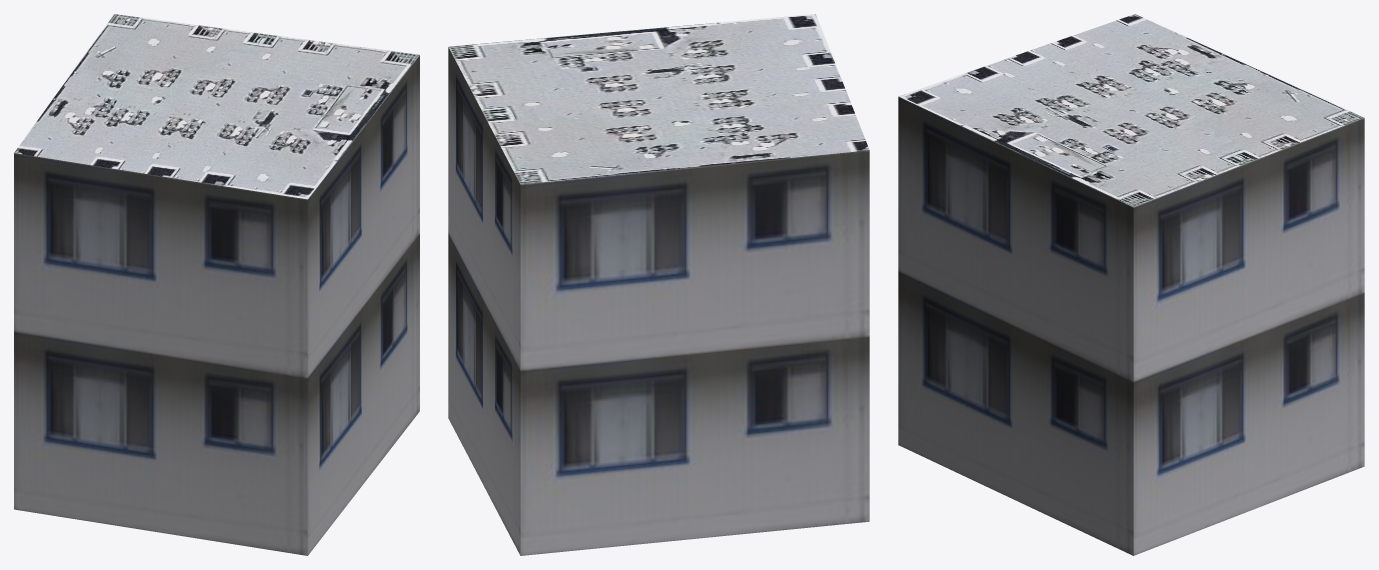
The model's file is ResTex__5156.fbx.
3 renders of one model, left to right at view 1: azimuth 30°, elevation 25°; view 2: azimuth 150°, elevation 25°; view 3: azimuth 270°, elevation 25°, orthographic. The views are drawn at different scales.
Parts seen in each view (by area): view 1: CityEngineMaterial_9_m, CityEngineMaterial_8_m; view 2: CityEngineMaterial_9_m, CityEngineMaterial_8_m; view 3: CityEngineMaterial_9_m, CityEngineMaterial_8_m.
Boxes of the visible parts, left/top/right/bottom form: CityEngineMaterial_9_m: left=14, top=55, right=419, bottom=555; CityEngineMaterial_8_m: left=14, top=14, right=419, bottom=199; CityEngineMaterial_9_m: left=448, top=47, right=869, bottom=555; CityEngineMaterial_8_m: left=448, top=14, right=869, bottom=184; CityEngineMaterial_9_m: left=898, top=96, right=1364, bottom=555; CityEngineMaterial_8_m: left=898, top=14, right=1364, bottom=207.
Size of the model in its own units: 7.14 by 6 by 7.28.
Materials: 2 (2 with a texture image).
